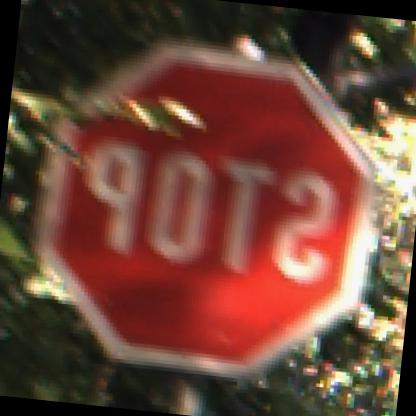stop: (21, 18, 386, 393)
